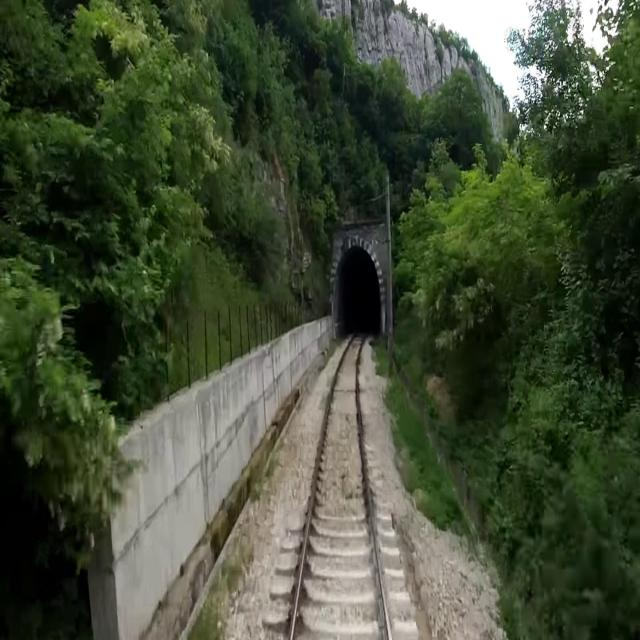rail-track: (293, 330, 386, 639)
